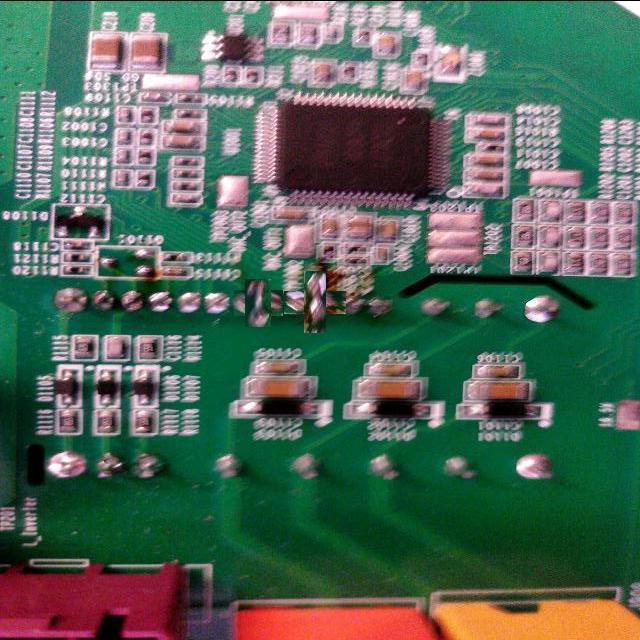Short_circuit: (294, 281, 336, 324), (240, 284, 277, 322)
